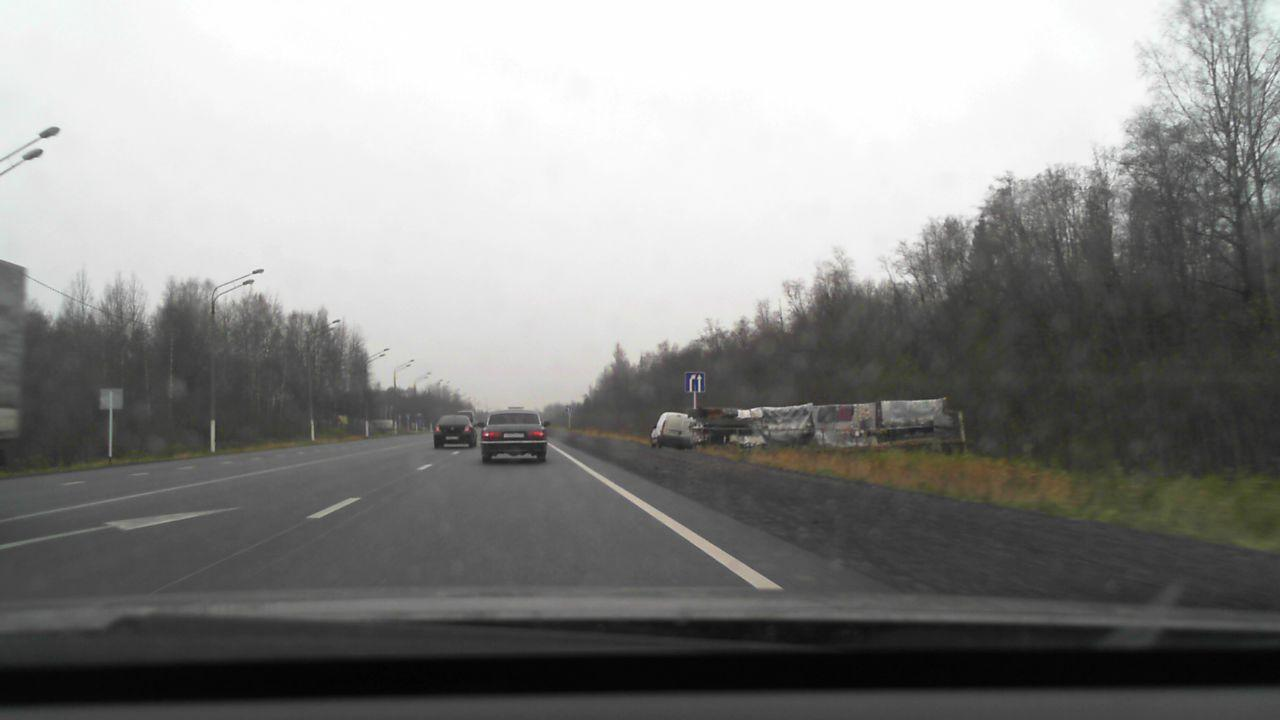5_15_6: (685, 372, 706, 392)
